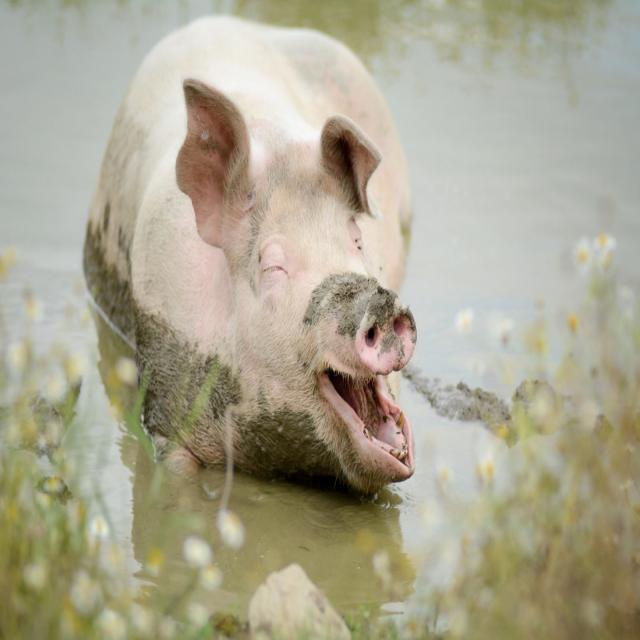Pig: (83, 8, 423, 500)
